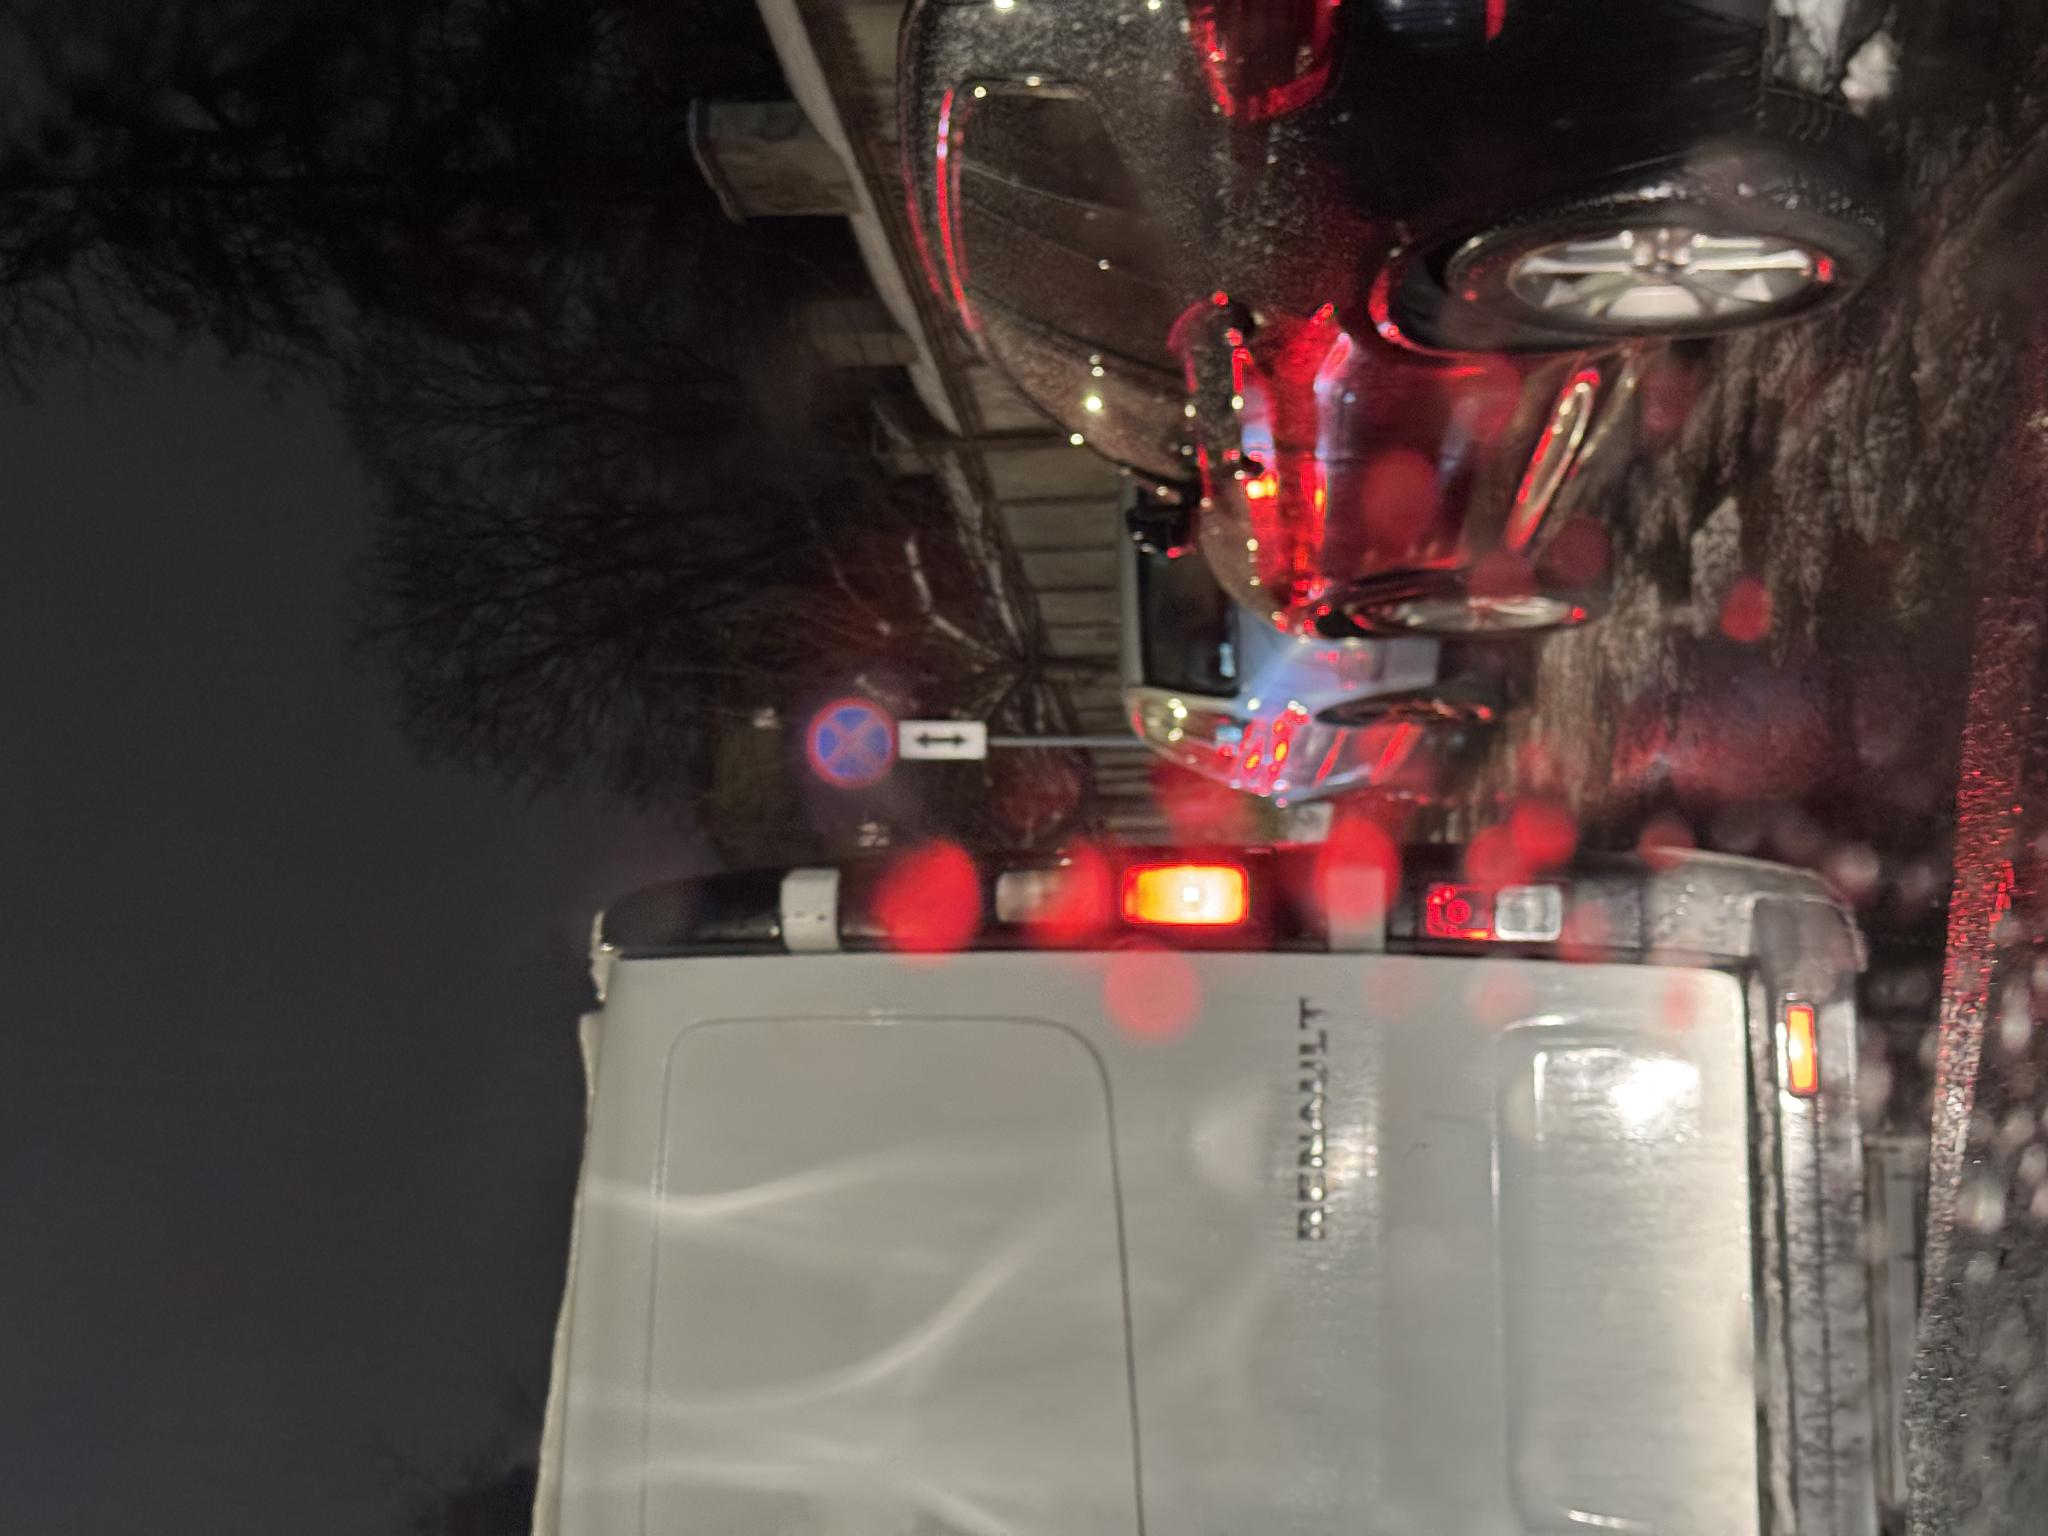other: (777, 900, 814, 987)
prohibitory: (747, 805, 839, 899)
